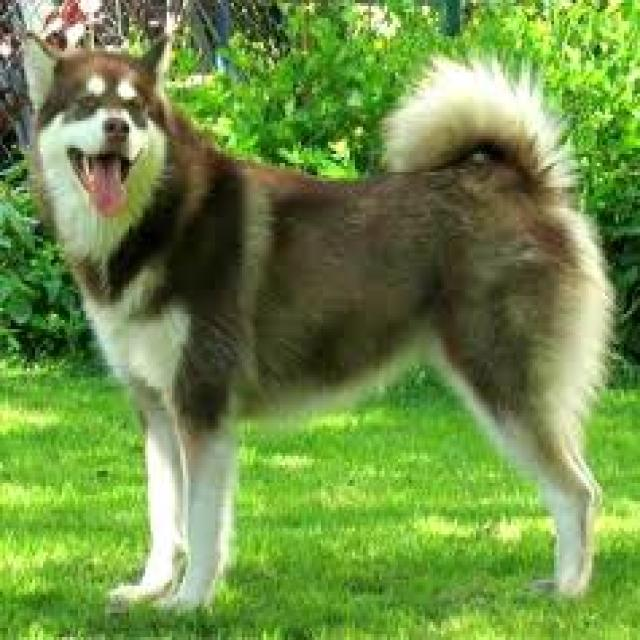ALASKAN_MALAMUTE: (12, 19, 616, 616)
